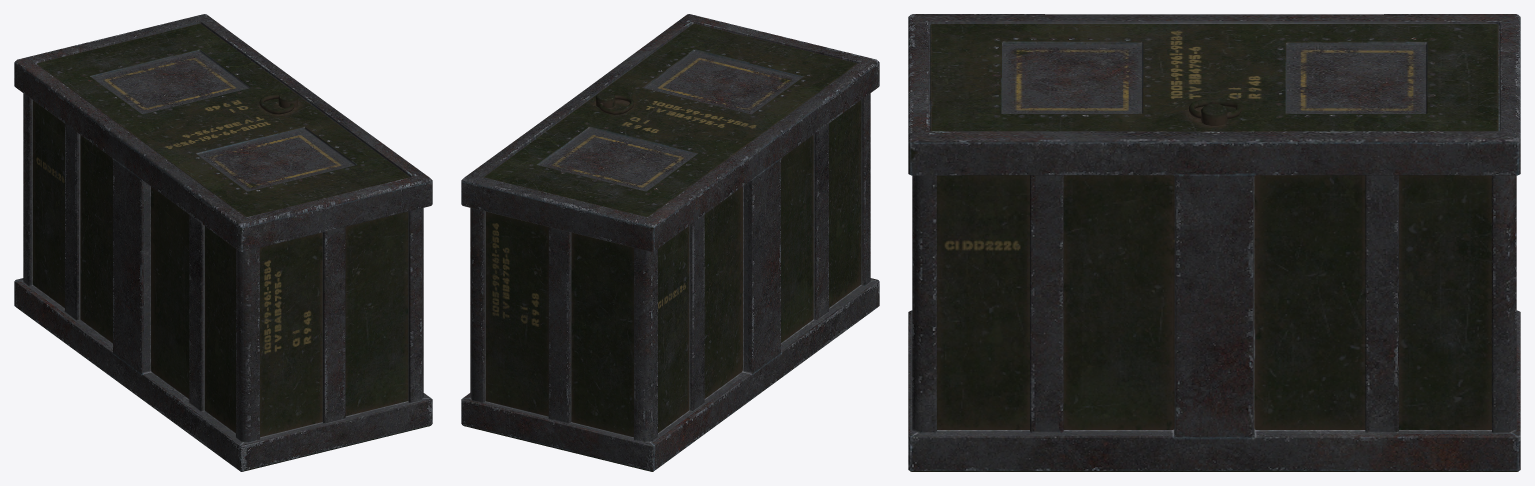
File: crate_metal_slide.dae
The picture shows the model from 3 angles, left to right: view 1: azimuth 30°, elevation 25°; view 2: azimuth 150°, elevation 25°; view 3: azimuth 270°, elevation 25°; orthographic projection. The views are drawn at different scales.
Visible parts, largest first — view 1: box_lo; view 2: box_lo; view 3: box_lo.
Part boxes in pixels (bbox=[...]): box_lo: bbox=[14, 14, 432, 471]; box_lo: bbox=[461, 14, 879, 471]; box_lo: bbox=[908, 14, 1520, 471].
Bounding box in the file's own units: 1.23 × 1.55 × 2.5.
